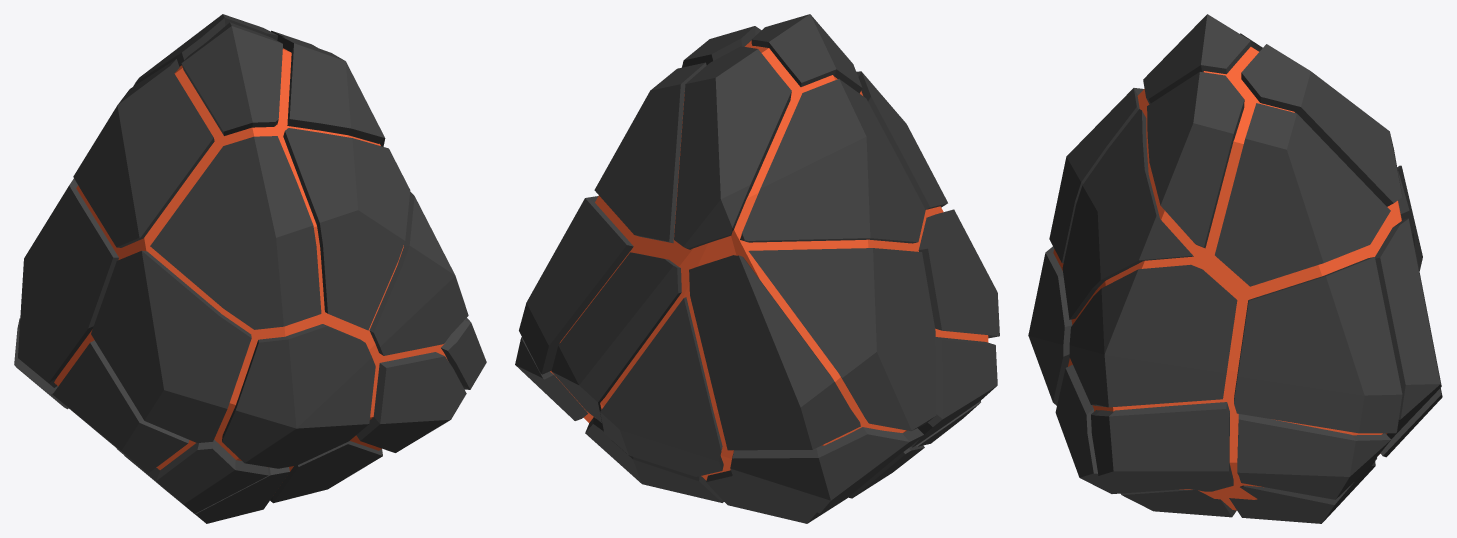
File: Meteo.fbx
3 views of the same model, side by side, from view 1: azimuth 30°, elevation 25°; view 2: azimuth 150°, elevation 25°; view 3: azimuth 270°, elevation 25° (orthographic).
Parts seen in each view (by area): view 1: Meteo; view 2: Meteo; view 3: Meteo.
Part boxes in pixels (x1,y1,x2,y2): Meteo: [14, 14, 486, 523]; Meteo: [515, 14, 999, 523]; Meteo: [1028, 14, 1442, 523].
Size of the model in its own units: 18.29 by 21.28 by 17.11.
